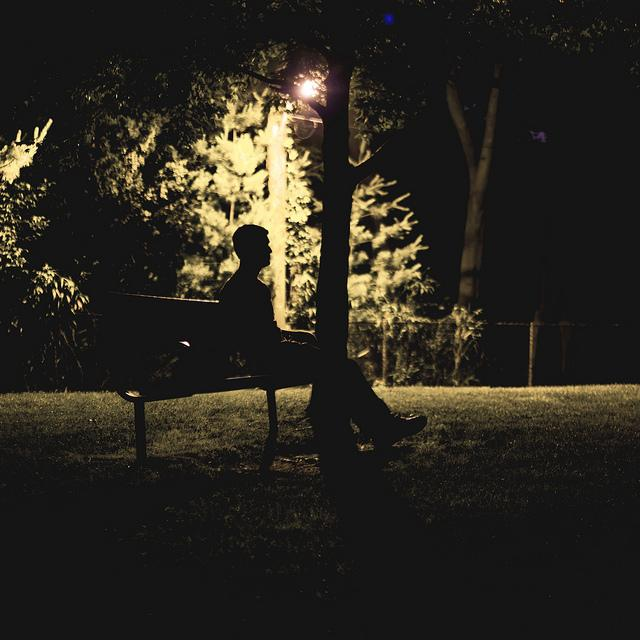People: (213, 193, 426, 506)
chair: (98, 287, 457, 493)
